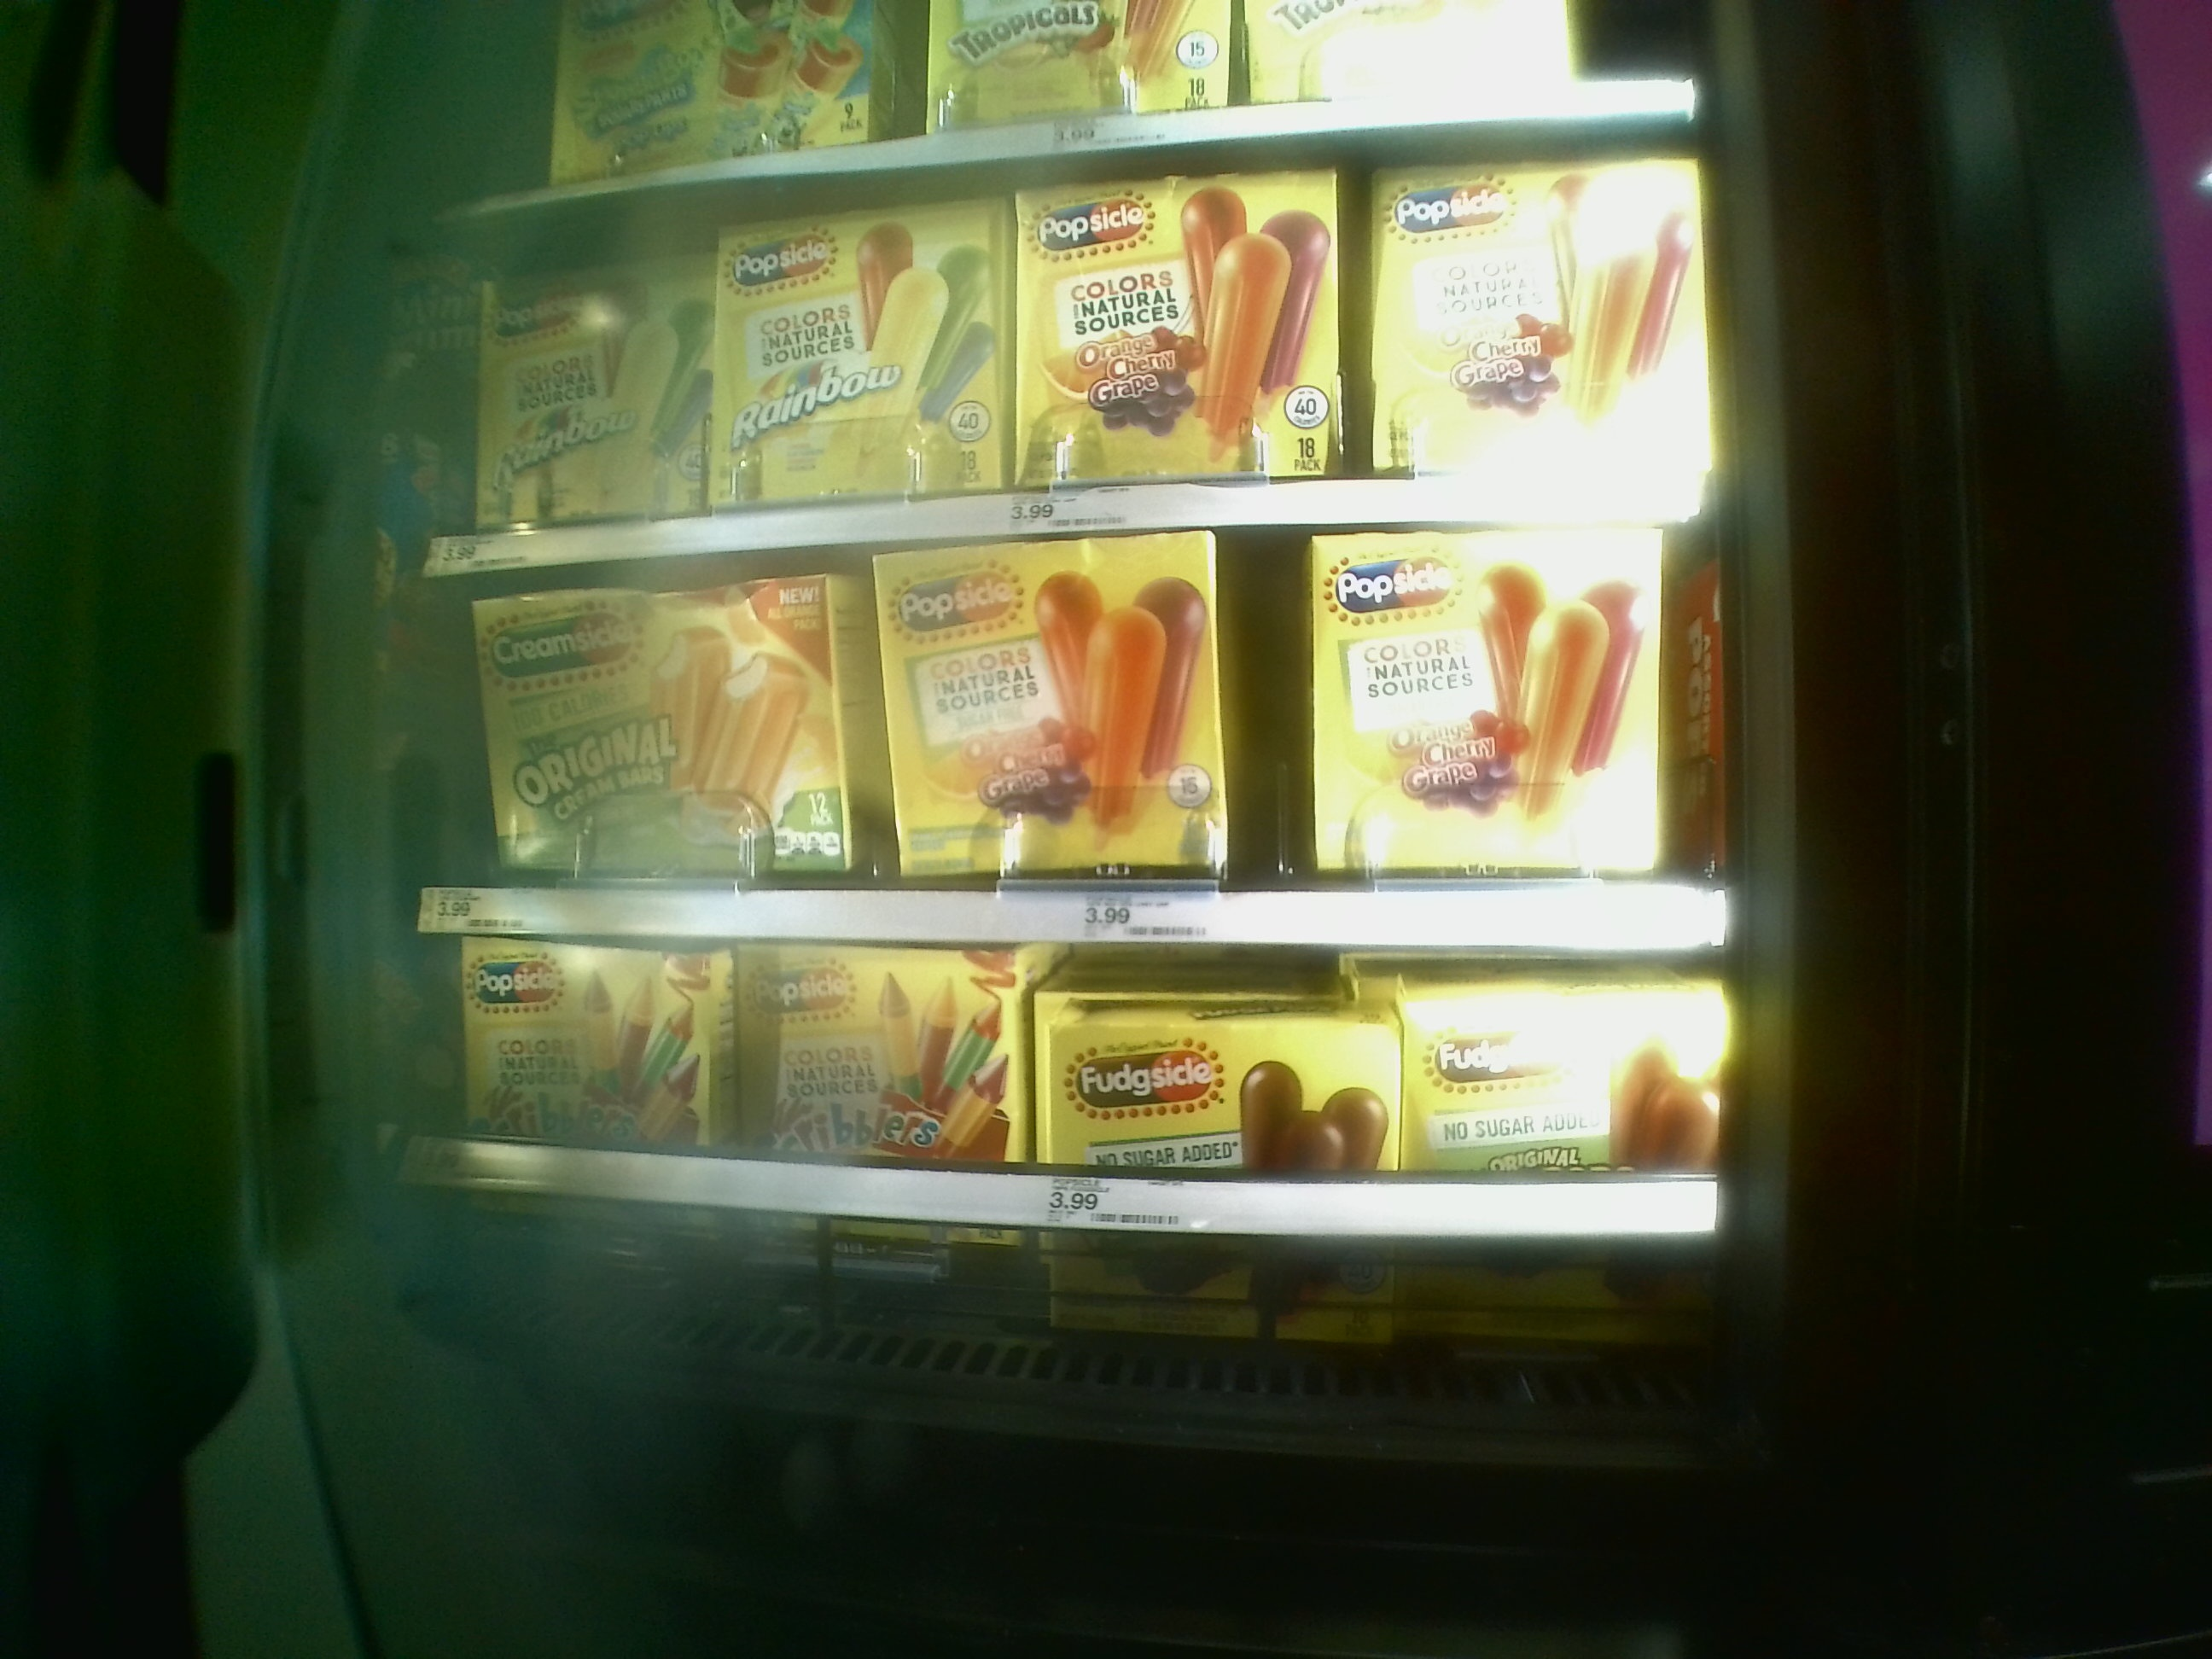frozen-food-shelf: (406, 579, 1761, 948), (387, 948, 1771, 1239)
